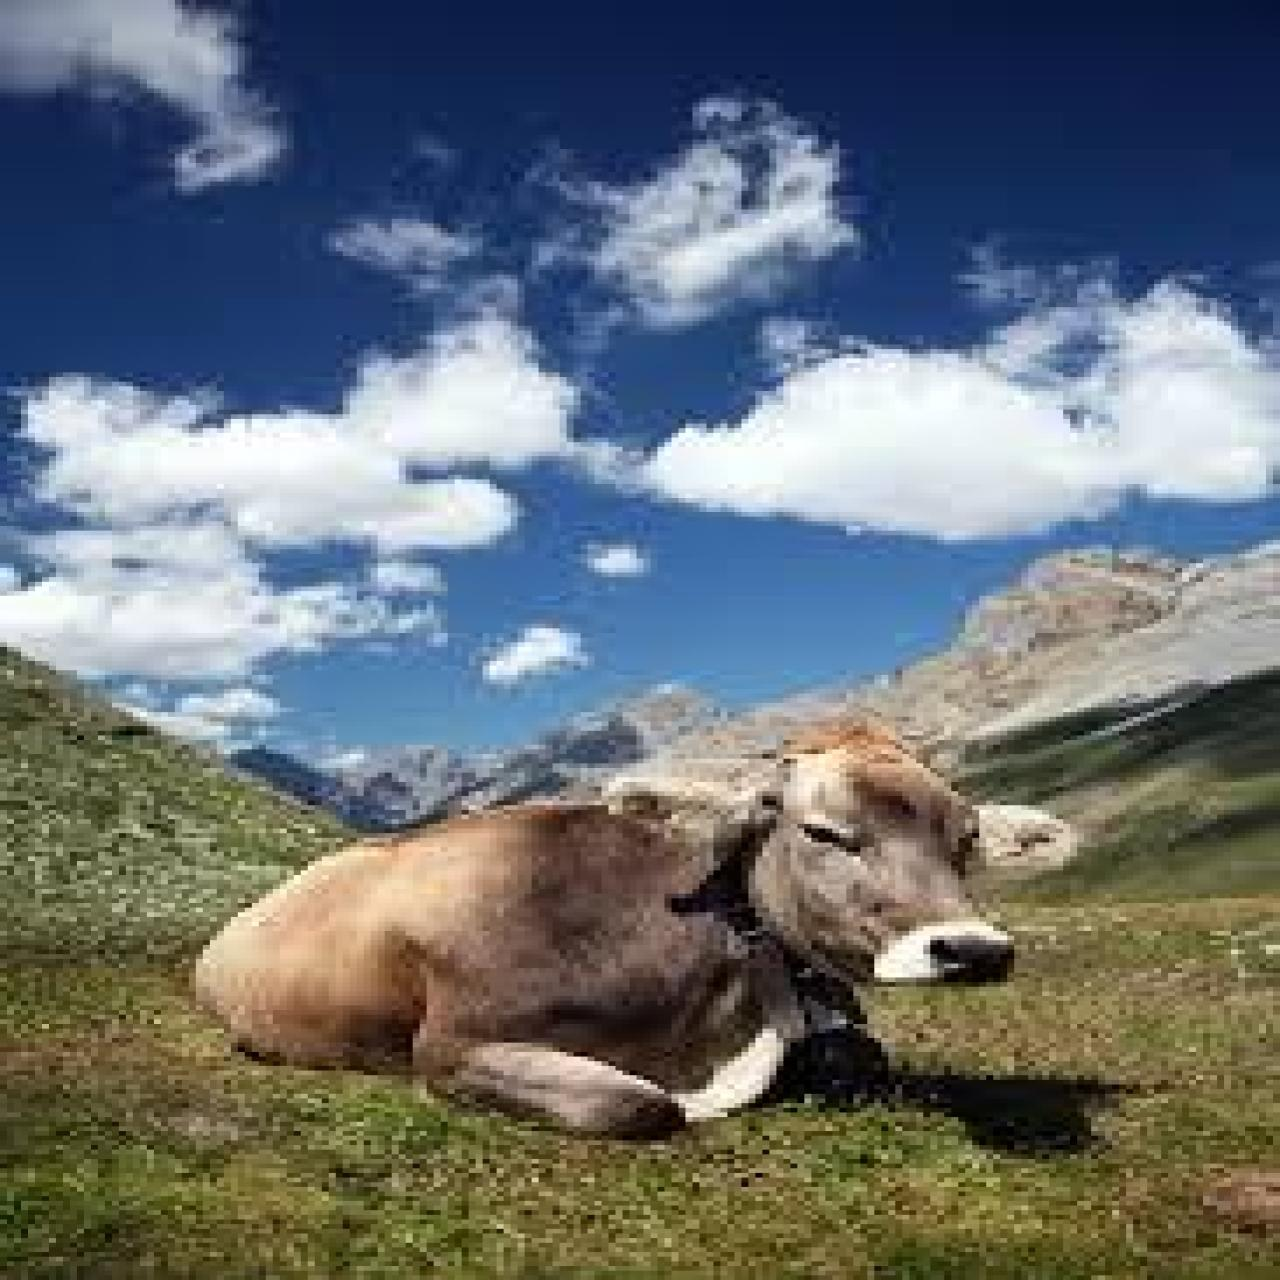cow: (189, 726, 1077, 1131)
